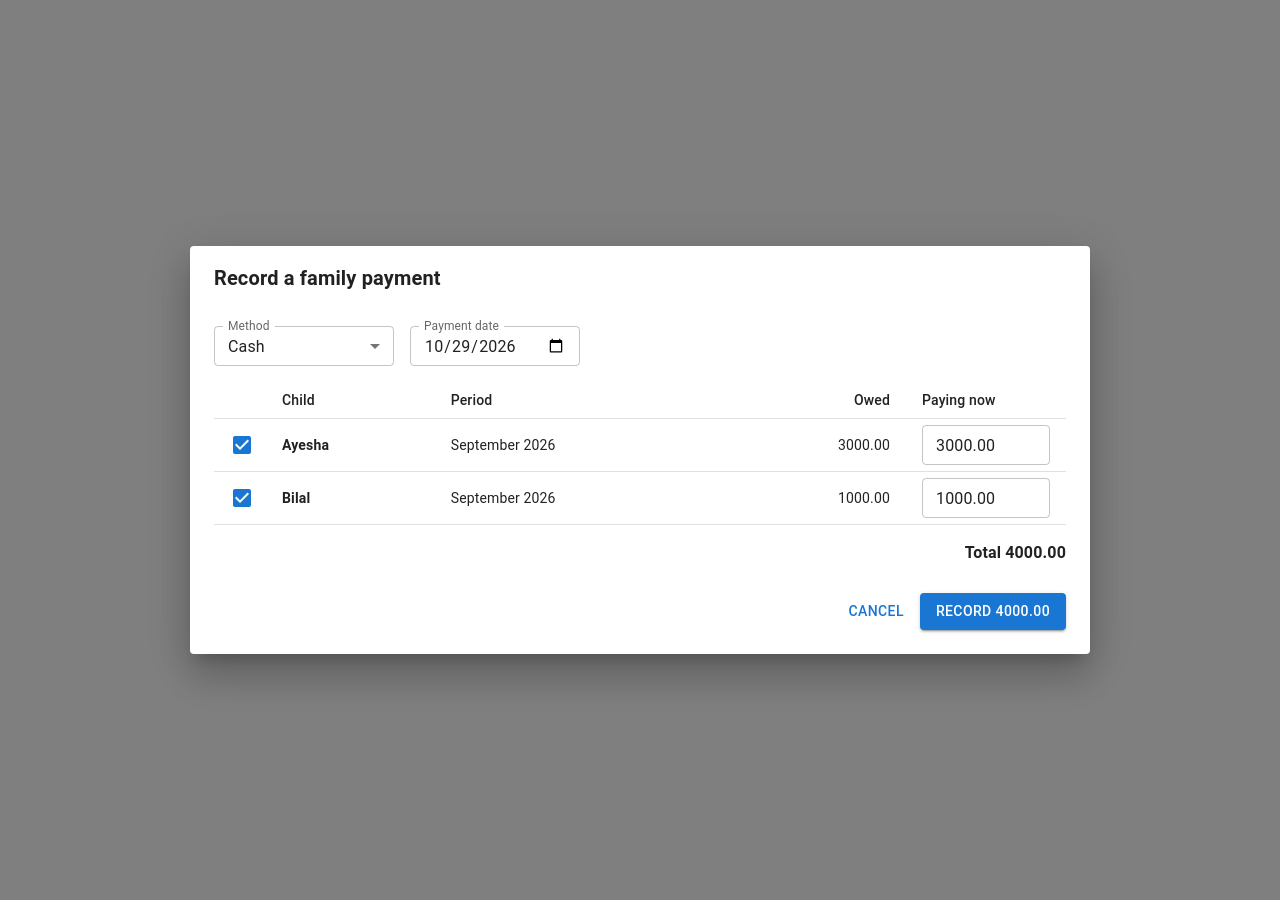
Test: FamilyPaymentDialog › shows which vouchers were refused and why, and still reloads what was recorded
Click the button "Record 4000.00" at (993, 612), box [920,593,1066,630]
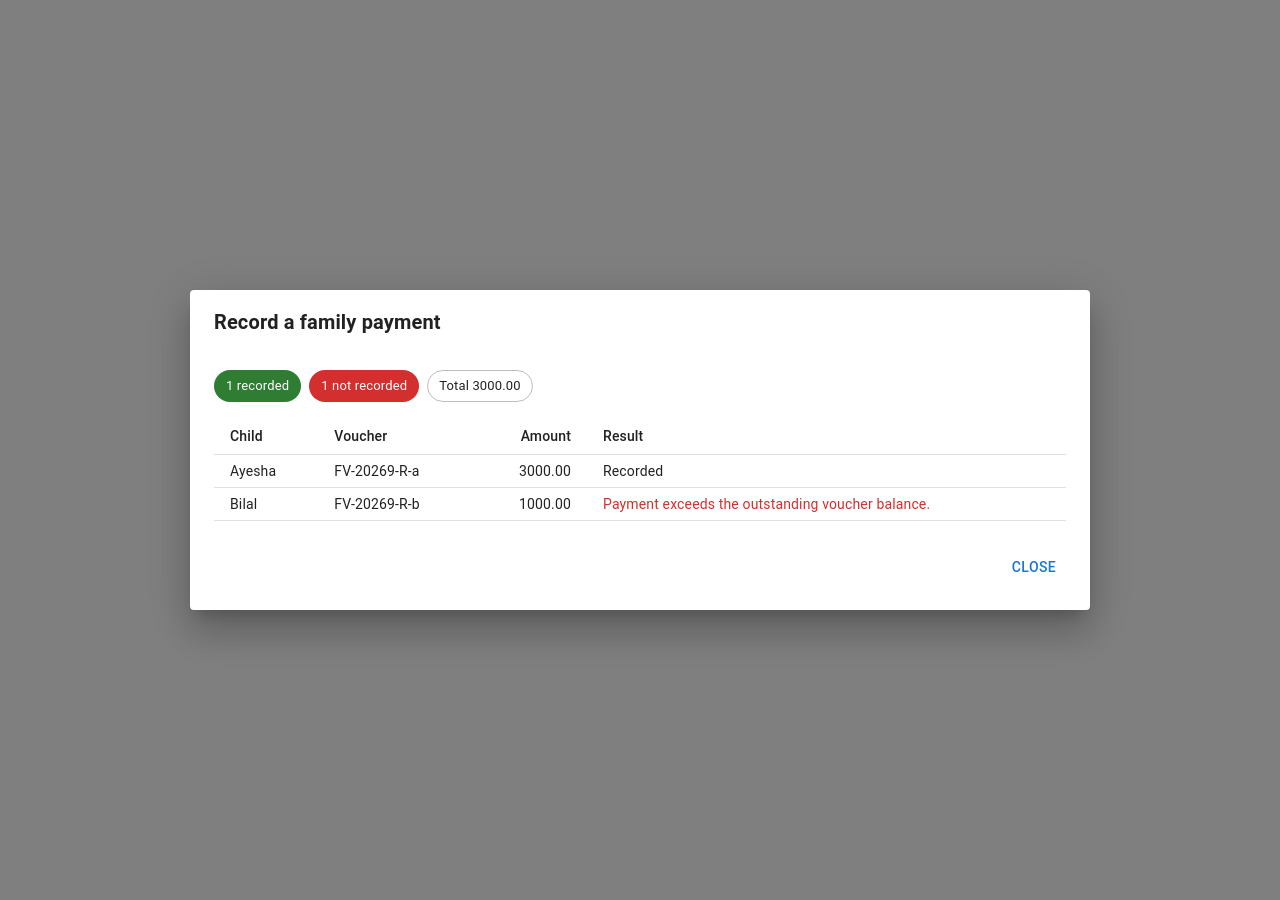
Result: the text "1 not recorded" is shown at [321,378,407,394]
Result: the text "Payment exceeds the outstanding voucher balance." is shown at [587,488,1066,521]
